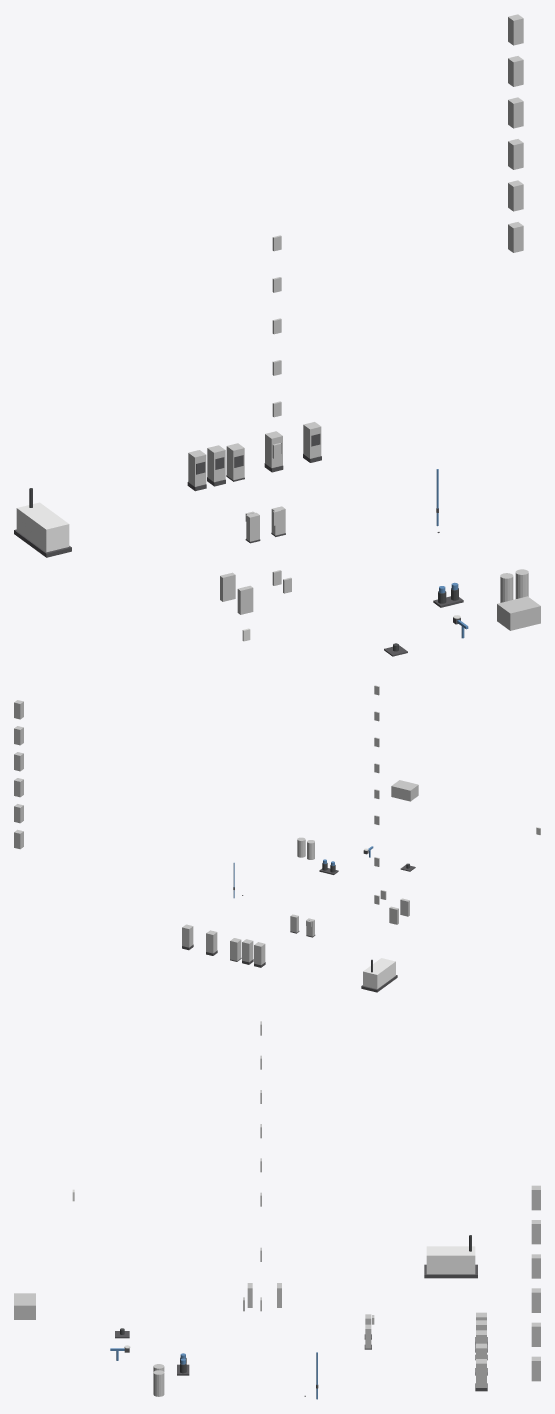
File: landing_equipment.glb
3 views of the same model, one above another, from view 1: azimuth 30°, elevation 25°; view 2: azimuth 150°, elevation 25°; view 3: azimuth 270°, elevation 25° (orthographic). The views are drawn at different scales.
Visible parts, largest first — view 1: eq_generator, eq_pge_service, eq_water_heater; view 2: eq_generator, eq_pge_service; view 3: eq_generator, eq_pge_service.
Part boxes in pixels (x1,y1,x2,y2): eq_generator: (14,488,71,557); eq_pge_service: (497,596,540,630); eq_water_heater: (500,569,528,602); eq_generator: (361,958,397,992); eq_pge_service: (391,780,418,801); eq_generator: (424,1235,477,1278); eq_pge_service: (14,1293,35,1319).
Size of the model in its own units: 43.65 by 27.02 by 43.28.
